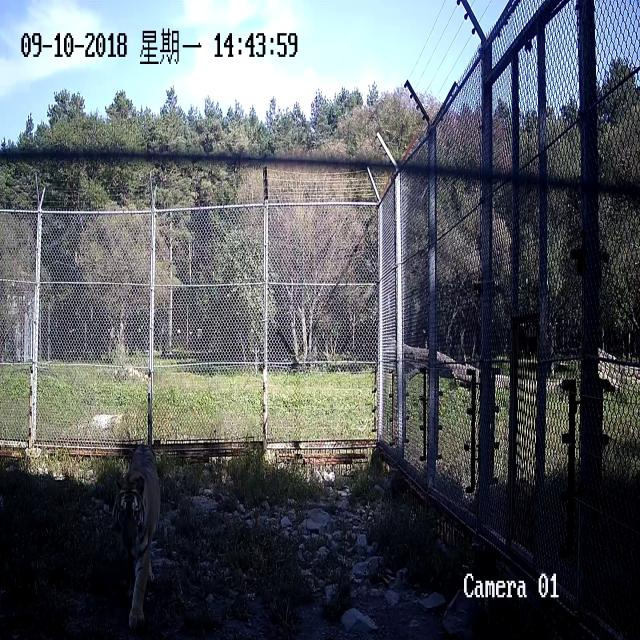Tiger: (101, 444, 196, 639)
